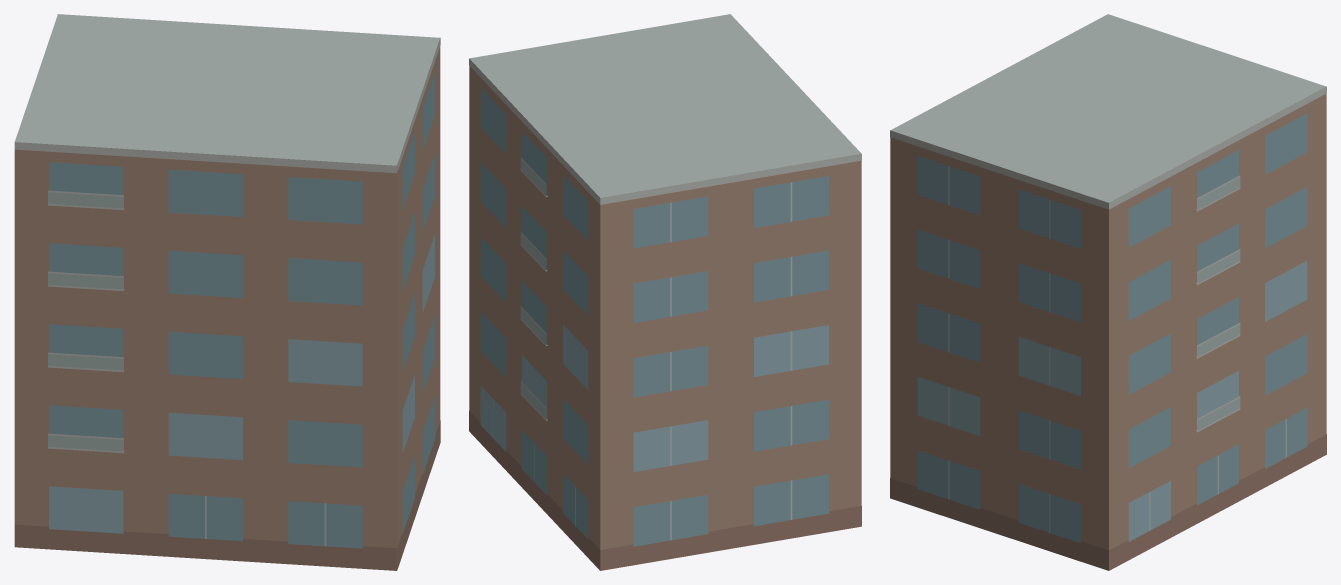
Rendered from survey-upis-32853466.glb.
The picture shows the model from 3 angles, left to right: view 1: azimuth 30°, elevation 25°; view 2: azimuth 150°, elevation 25°; view 3: azimuth 270°, elevation 25°; orthographic projection. The views are drawn at different scales.
Visible parts, largest first — view 1: survey-upis-32853466.tmp; view 2: survey-upis-32853466.tmp; view 3: survey-upis-32853466.tmp.
Part boxes in pixels (x1,y1,x2,y2): survey-upis-32853466.tmp: (14, 14, 440, 570); survey-upis-32853466.tmp: (469, 14, 861, 570); survey-upis-32853466.tmp: (890, 14, 1326, 570).
Bounding box in the file's own units: 14.54 × 13.2 × 14.2.
